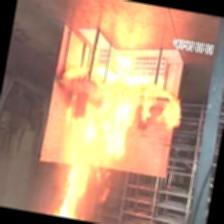fire: (36, 39, 189, 224)
